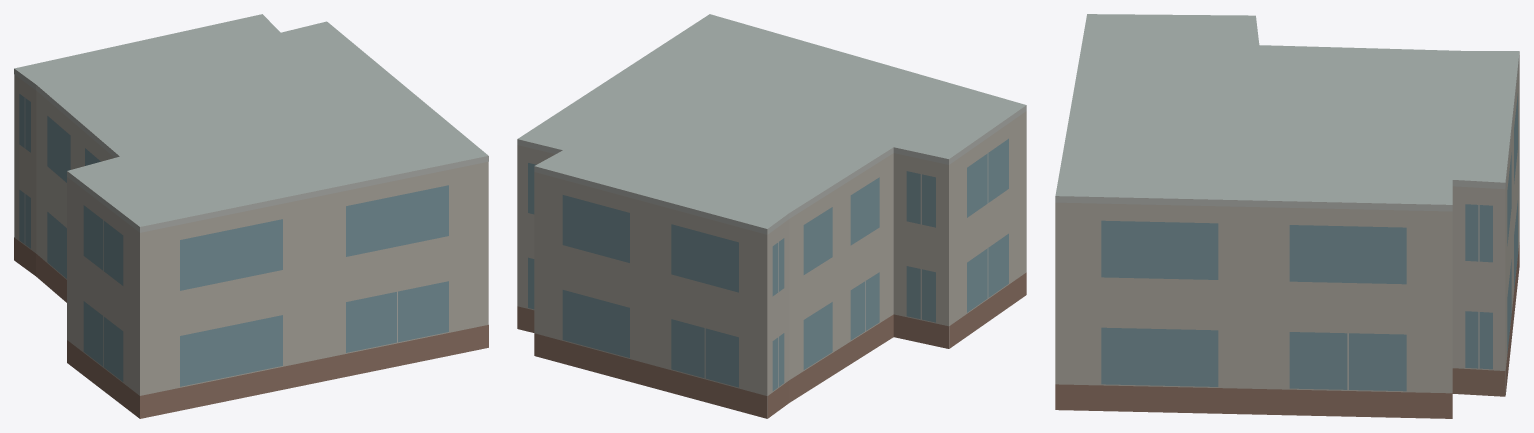
The model's file is survey-upis-32838513.glb.
3 renders of one model, left to right at view 1: azimuth 30°, elevation 25°; view 2: azimuth 150°, elevation 25°; view 3: azimuth 270°, elevation 25°, orthographic. The views are drawn at different scales.
Visible parts, largest first — view 1: survey-upis-32838513.tmp; view 2: survey-upis-32838513.tmp; view 3: survey-upis-32838513.tmp.
Part boxes in pixels (<box>): survey-upis-32838513.tmp: <box>14,14,488,418</box>; survey-upis-32838513.tmp: <box>517,14,1026,418</box>; survey-upis-32838513.tmp: <box>1055,14,1519,418</box>.
Bounding box in the file's own units: 15.3 × 7.99 × 15.72.
